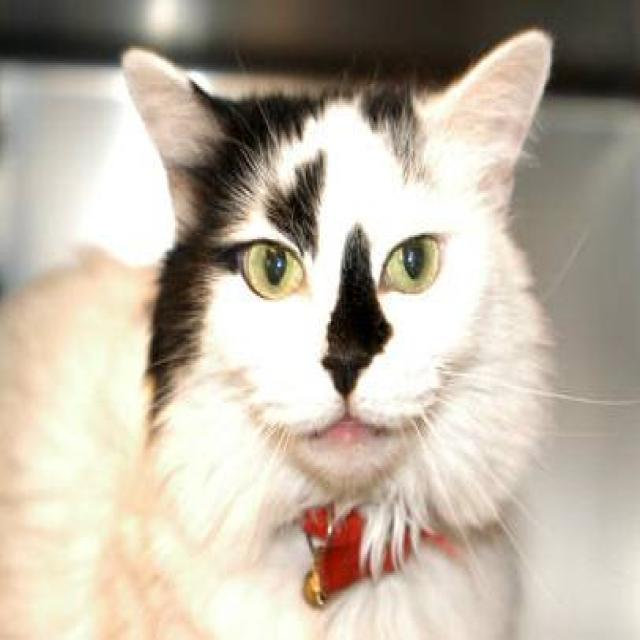Cat: (124, 47, 555, 524)
